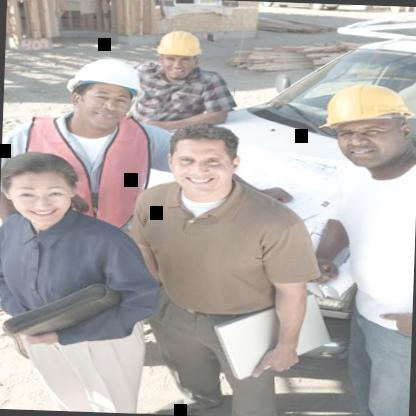head: (0, 152, 90, 228), (160, 124, 248, 201)
helmet: (306, 70, 416, 171), (58, 52, 150, 135), (150, 22, 212, 84)
